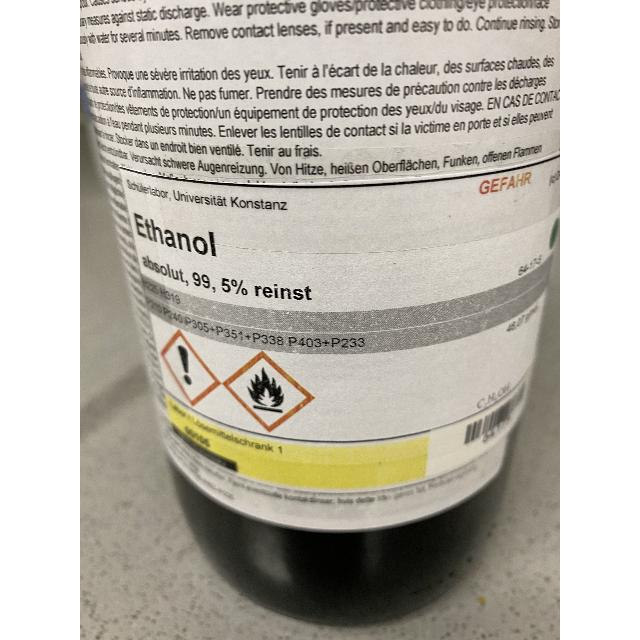flammable: (248, 367, 284, 413)
health-ozone layer hazard: (178, 344, 192, 386)
